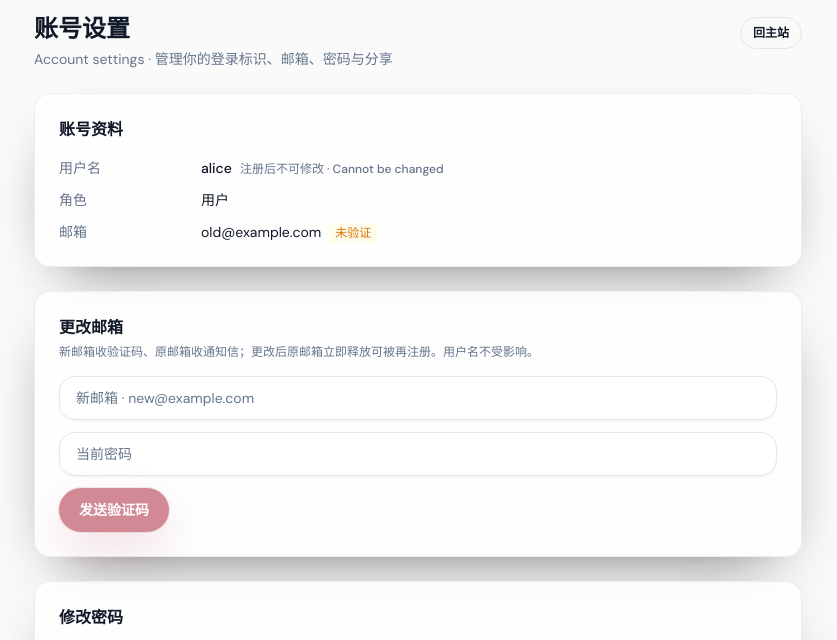
Test: AccountPage › surfaces backend duplicate-email errors inline in the change flow
Type "taken@example.com" into the field with test id "new-email".
click(418, 398); type("taken@example.com")  # box [59,376,777,420]
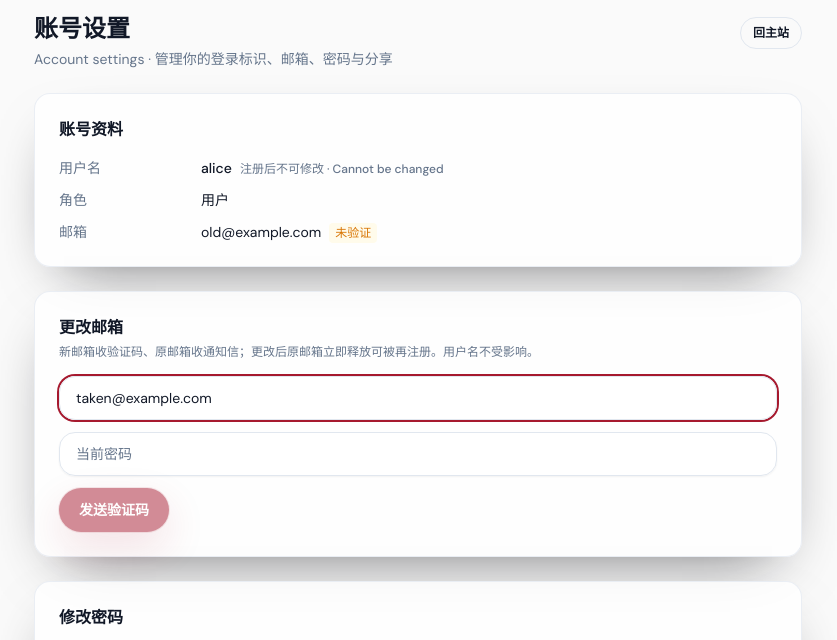
Type "right-pass" into the password field with test id "email-current-password".
click(418, 454); type("right-pass")  # box [59,432,777,476]
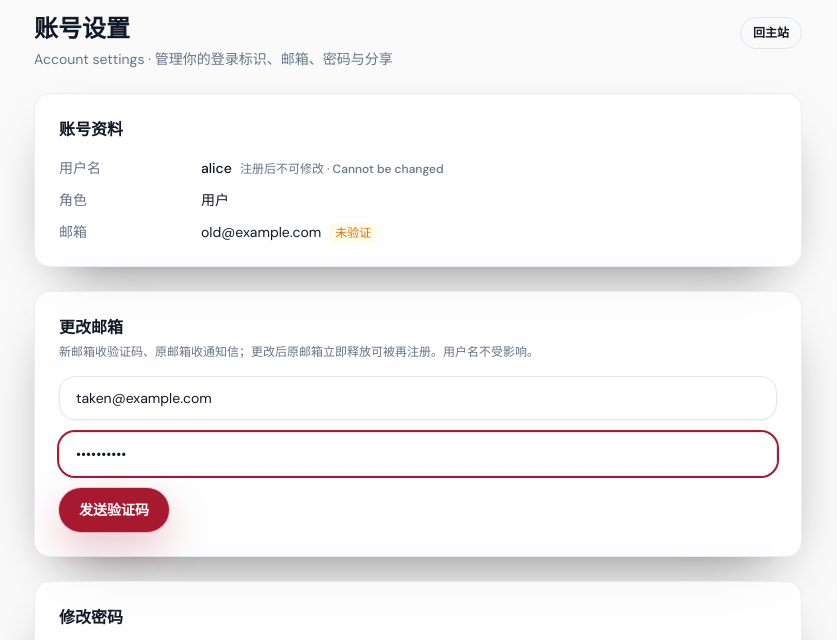
Click the button "发送验证码".
click(114, 510)  # box [59,488,169,532]
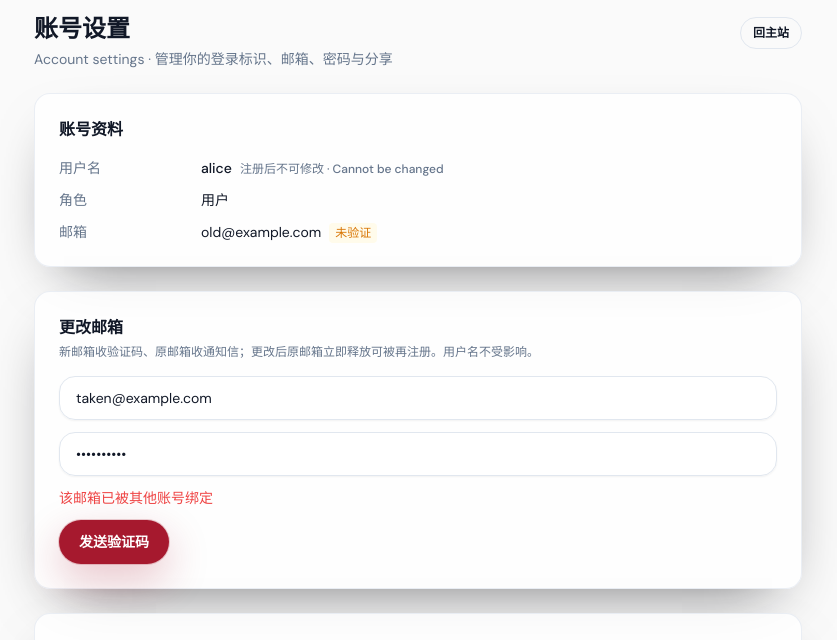
Now the text "该邮箱已被其他账号绑定" is shown, box [59,489,213,507]
